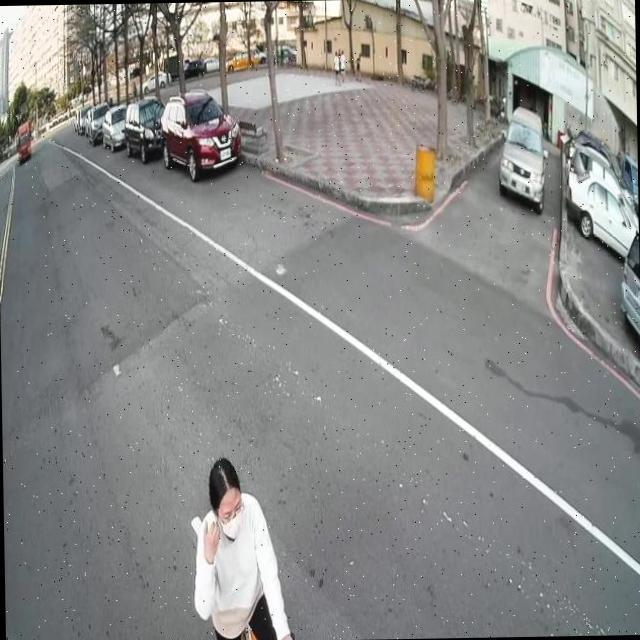person: (192, 444, 298, 640)
